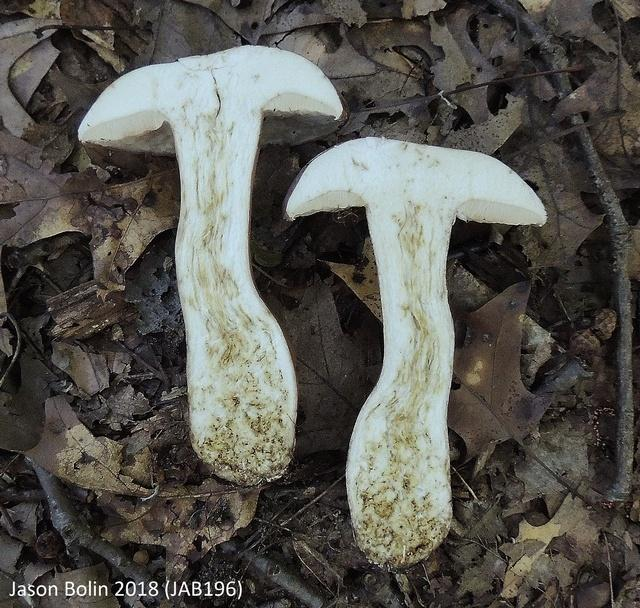poisonous_mushroom: (76, 42, 345, 487), (282, 134, 548, 569)
